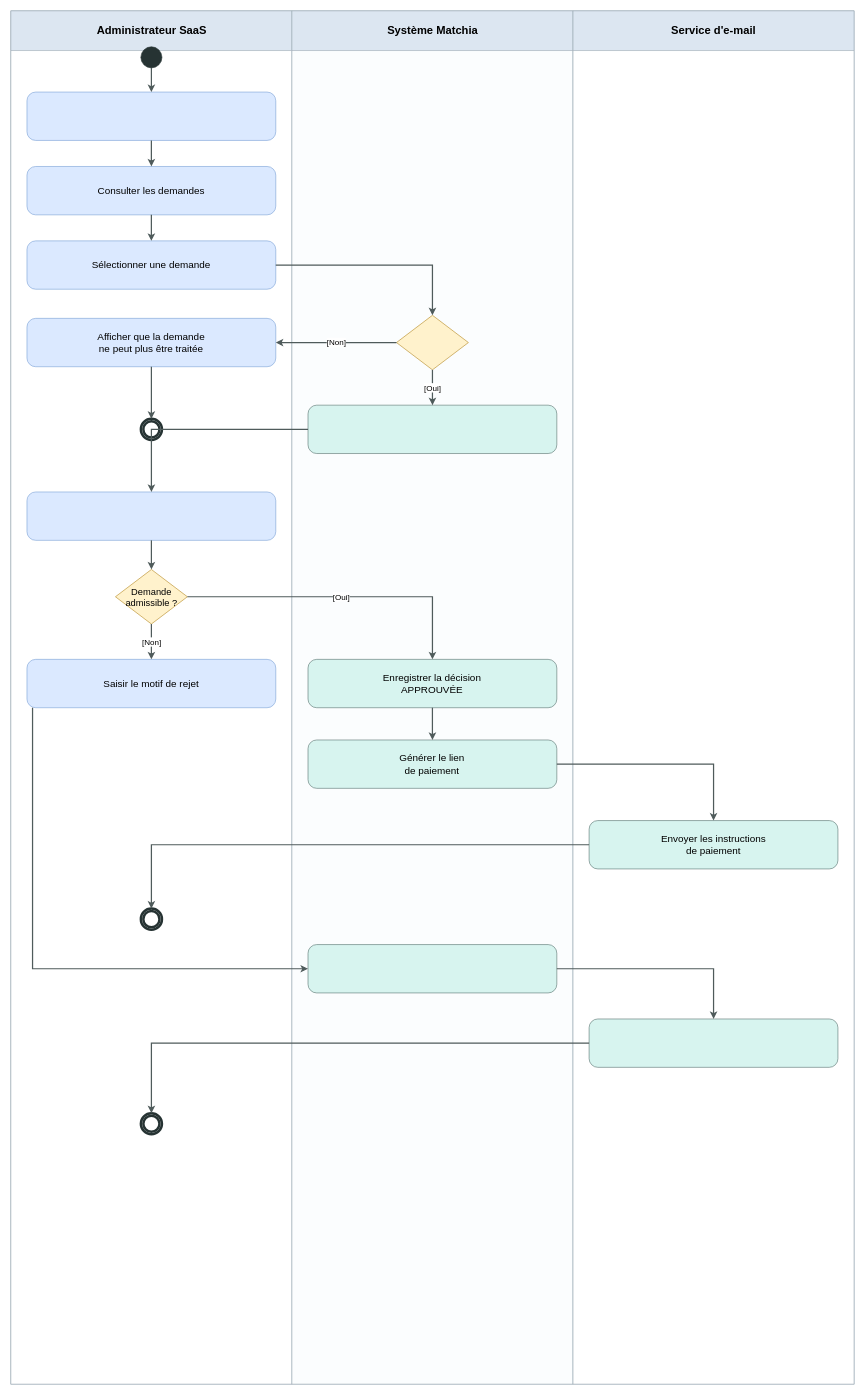
This 865x1395 diagram has some shape labels left out. The box of each missing label's shape, as (x1, y1, x2, y2) in pixels:
Afficher les informations, les documents et la configuration: (307, 405, 557, 454)
Enregistrer la décision REJETÉE: (307, 944, 557, 993)
Notifier le rejet et son motif: (589, 1018, 838, 1067)
S'authentifier: (26, 91, 276, 140)
Statut en attente ?: (396, 315, 468, 370)
Vérifier la complétude et la conformité: (26, 491, 276, 540)
